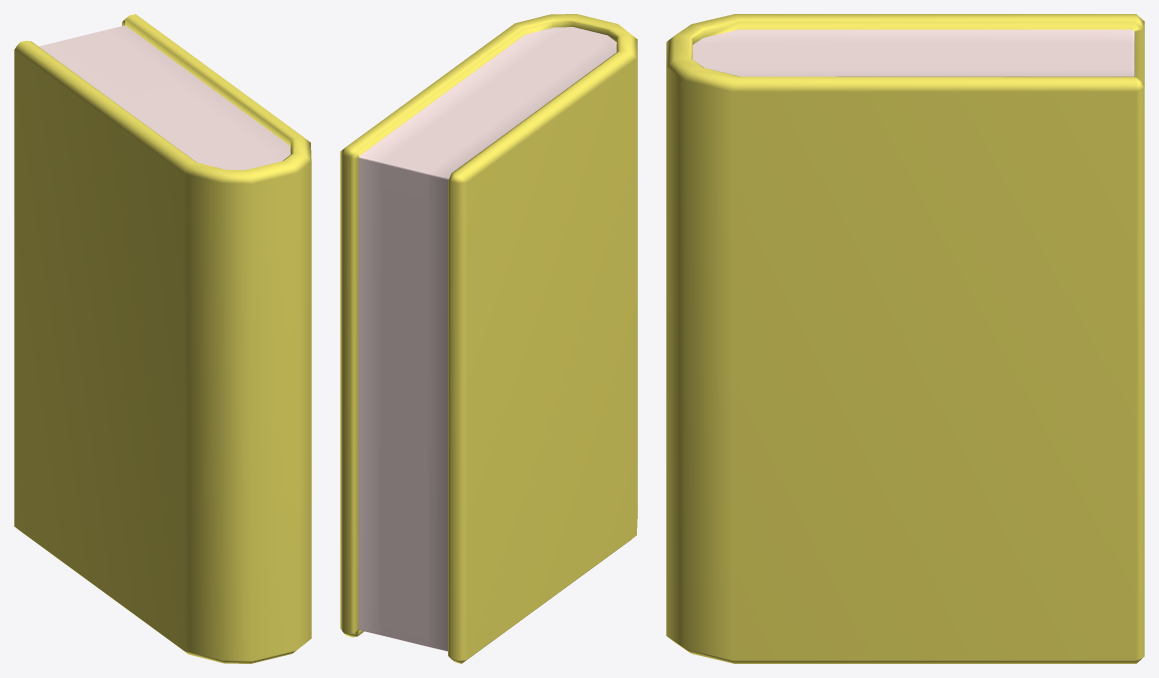
The model's file is Store_7_Book_2.glb.
The picture shows the model from 3 angles, left to right: view 1: azimuth 30°, elevation 25°; view 2: azimuth 150°, elevation 25°; view 3: azimuth 270°, elevation 25°; orthographic projection. The views are drawn at different scales.
Parts seen in each view (by area): view 1: Store_7_Book_2; view 2: Store_7_Book_2; view 3: Store_7_Book_2.
Boxes of the visible parts, box(x1,y1,x2,y2) form: Store_7_Book_2: box(14, 14, 311, 663); Store_7_Book_2: box(340, 14, 637, 663); Store_7_Book_2: box(666, 14, 1144, 663).
Size of the model in its own units: 0.1558 by 0.5728 by 0.4257.
Materials: 1 (1 with a texture image).
